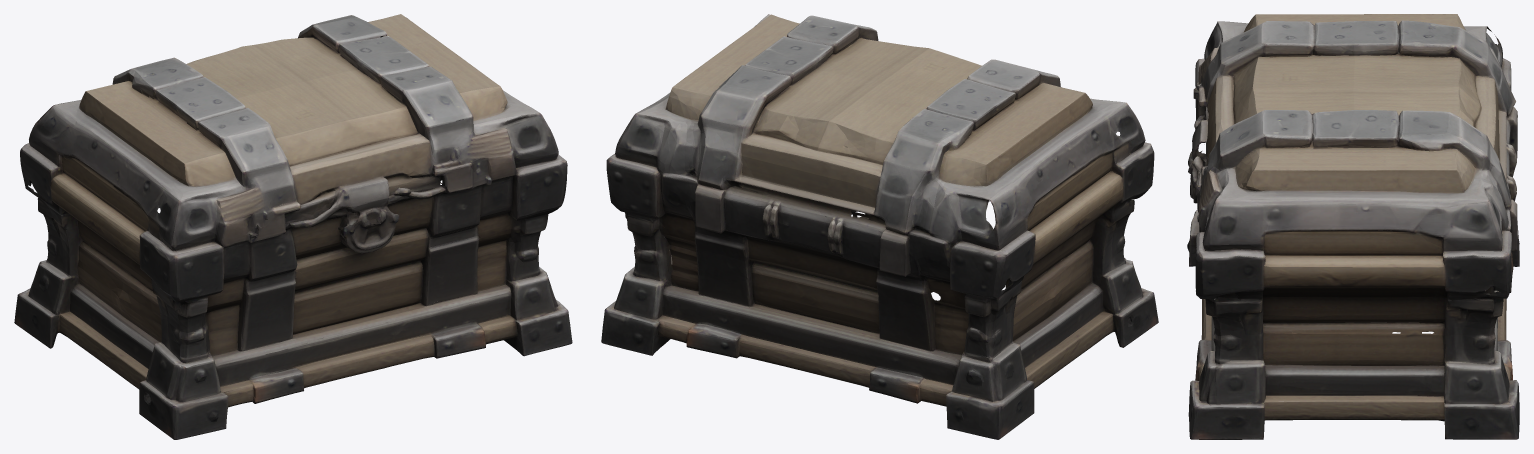
Rendered from mystery_box.glb.
3 views of the same model, side by side, from view 1: azimuth 30°, elevation 25°; view 2: azimuth 150°, elevation 25°; view 3: azimuth 270°, elevation 25° (orthographic). The views are drawn at different scales.
Parts seen in each view (by area): view 1: world; view 2: world; view 3: world.
Part boxes in pixels (x1=…): world: x1=14, y1=14, x2=572, y2=439; world: x1=601, y1=14, x2=1158, y2=439; world: x1=1187, y1=14, x2=1519, y2=439.
Bounding box in the file's own units: 1 × 0.6204 × 0.7066.
1 material, 1 textured.
